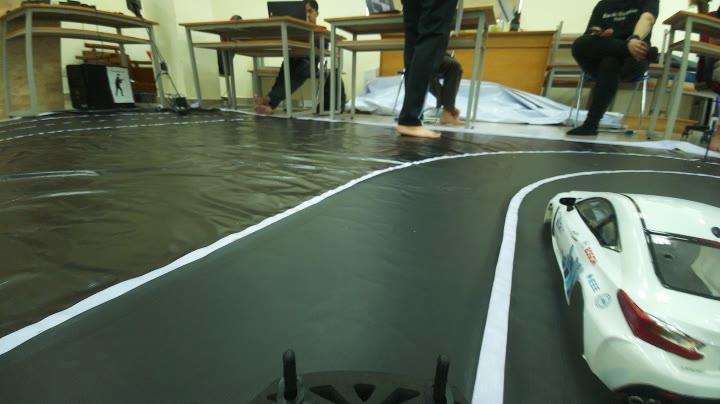car: (518, 159, 720, 396)
